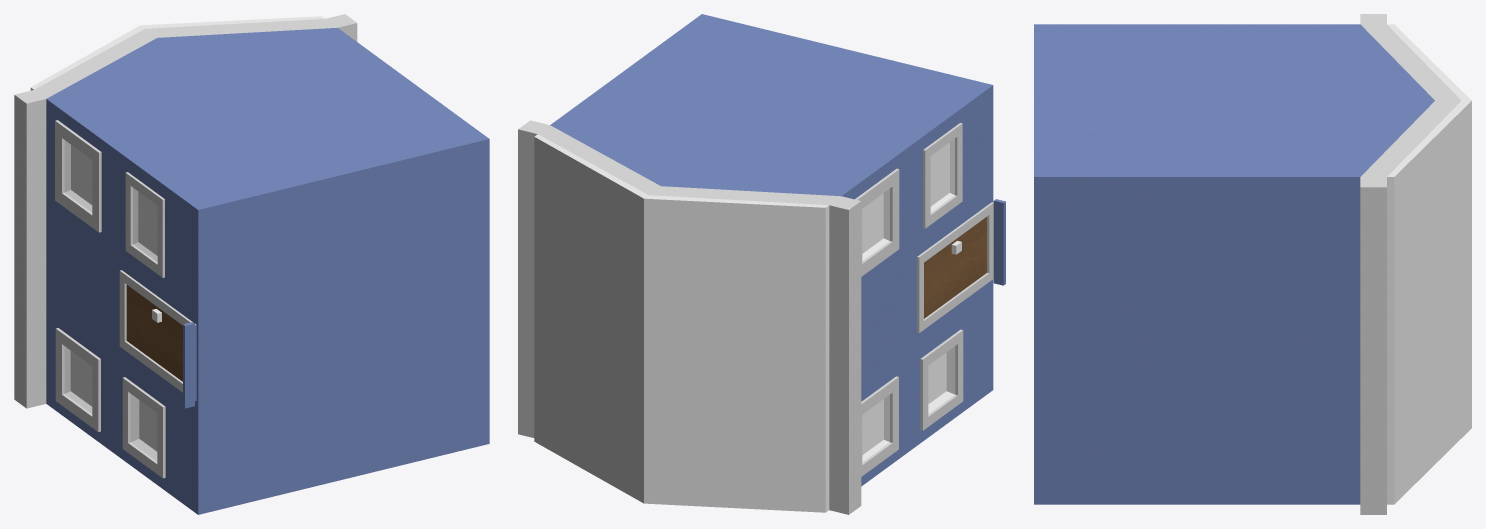
The model's file is venice_murano_5.fbx.
The picture shows the model from 3 angles, left to right: view 1: azimuth 30°, elevation 25°; view 2: azimuth 150°, elevation 25°; view 3: azimuth 270°, elevation 25°; orthographic projection. The views are drawn at different scales.
Parts seen in each view (by area): view 1: Cube.341; view 2: Cube.341; view 3: Cube.341.
Part boxes in pixels (x1=…): Cube.341: x1=14, y1=14, x2=489, y2=514; Cube.341: x1=518, y1=14, x2=1005, y2=514; Cube.341: x1=1034, y1=14, x2=1471, y2=514.
Bounding box in the file's own units: 897 × 790 × 956.
